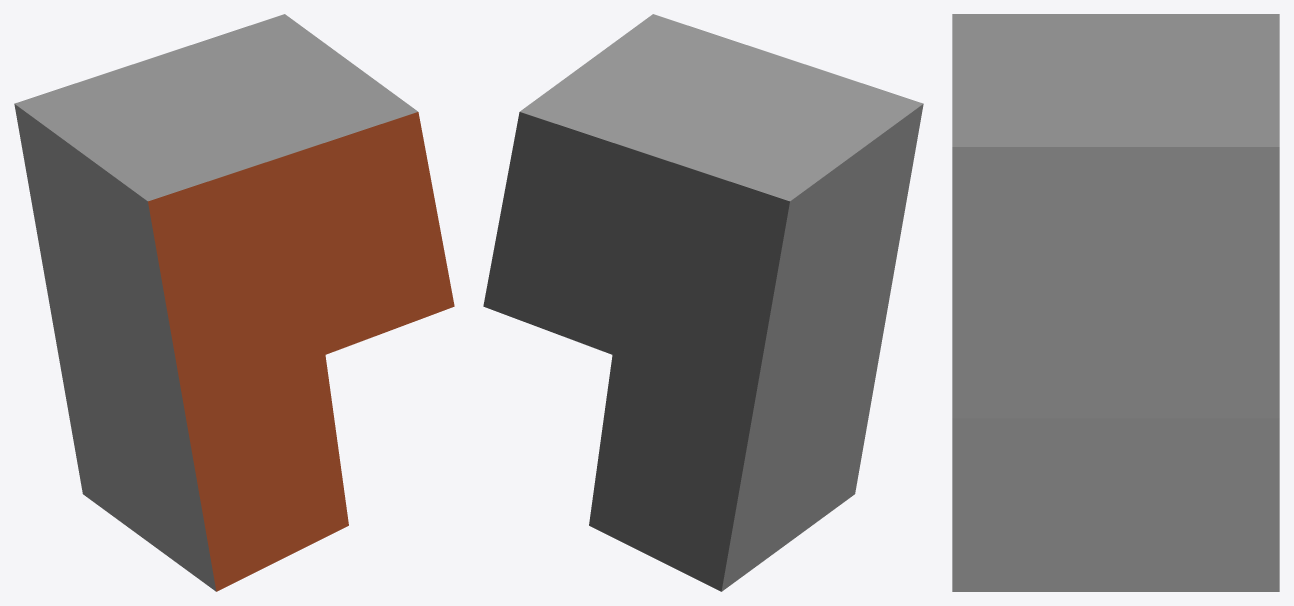
Rendered from construction_4541_assumed_A_Casa_h6m.obj.
3 renders of one model, left to right at view 1: azimuth 30°, elevation 25°; view 2: azimuth 150°, elevation 25°; view 3: azimuth 270°, elevation 25°, orthographic. The views are drawn at different scales.
Parts seen in each view (by area): view 1: construction_4541_assumed_A_Casa; view 2: construction_4541_assumed_A_Casa; view 3: construction_4541_assumed_A_Casa.
Part boxes in pixels (<box>): construction_4541_assumed_A_Casa: <box>14,14,454,591</box>; construction_4541_assumed_A_Casa: <box>483,14,923,591</box>; construction_4541_assumed_A_Casa: <box>952,14,1279,591</box>.
Bounding box in the file's own units: 7.95 × 10.68 × 6.
